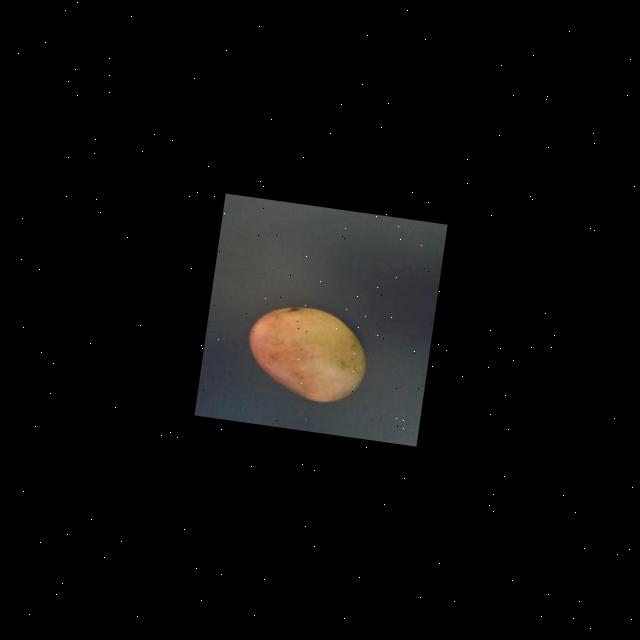Mango: (239, 301, 372, 408)
